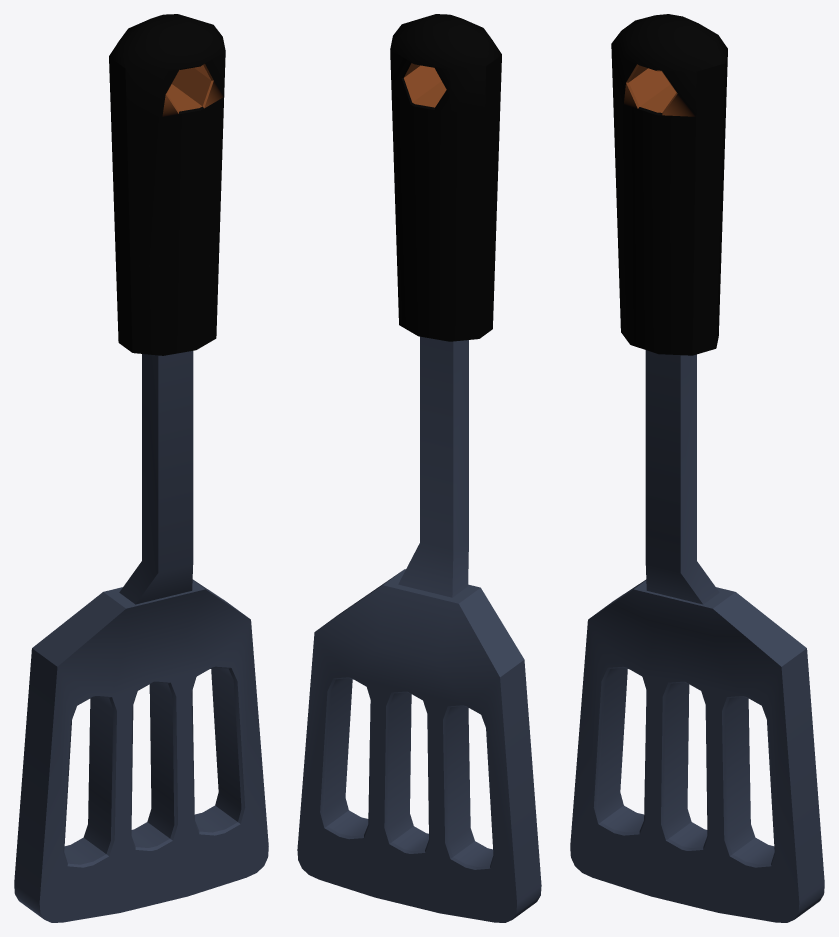
Rendered from spatula.fbx.
3 views of the same model, side by side, from view 1: azimuth 30°, elevation 25°; view 2: azimuth 150°, elevation 25°; view 3: azimuth 330°, elevation 25° (orthographic). The views are drawn at different scales.
Parts seen in each view (by area): view 1: Cylinder001; view 2: Cylinder001; view 3: Cylinder001.
Boxes of the visible parts, left/top/right/bottom form: Cylinder001: left=14, top=14, right=268, bottom=922; Cylinder001: left=297, top=14, right=541, bottom=922; Cylinder001: left=570, top=14, right=824, bottom=922.
Bounding box in the file's own units: 24.8 × 92.33 × 11.9.
